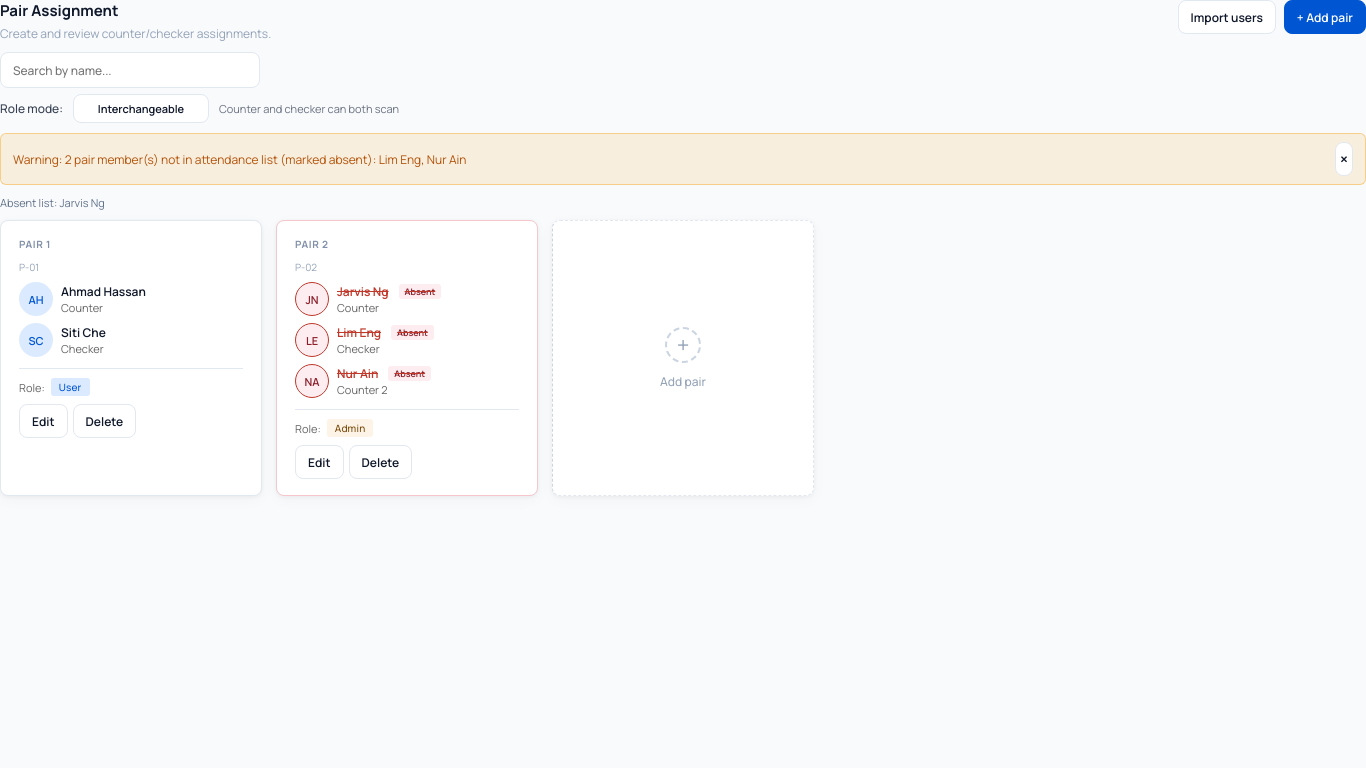
it: PairAssignmentTab › opens edit pair in modal with full dropdown options
Click the text "P-01" at (29,267), box [19,260,39,274]
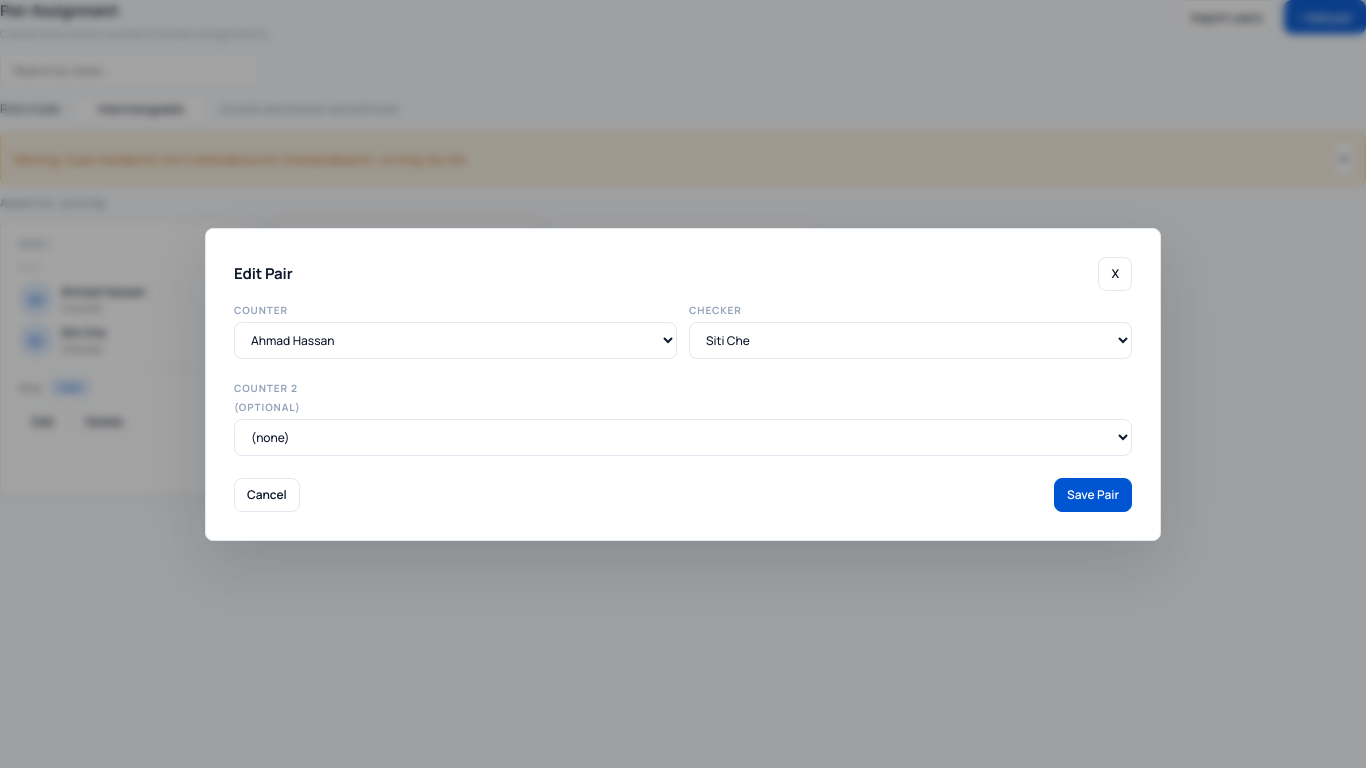
Select "Admin User" in the dropdown labelled "Counter" at (455,340), box [234,322,677,358]
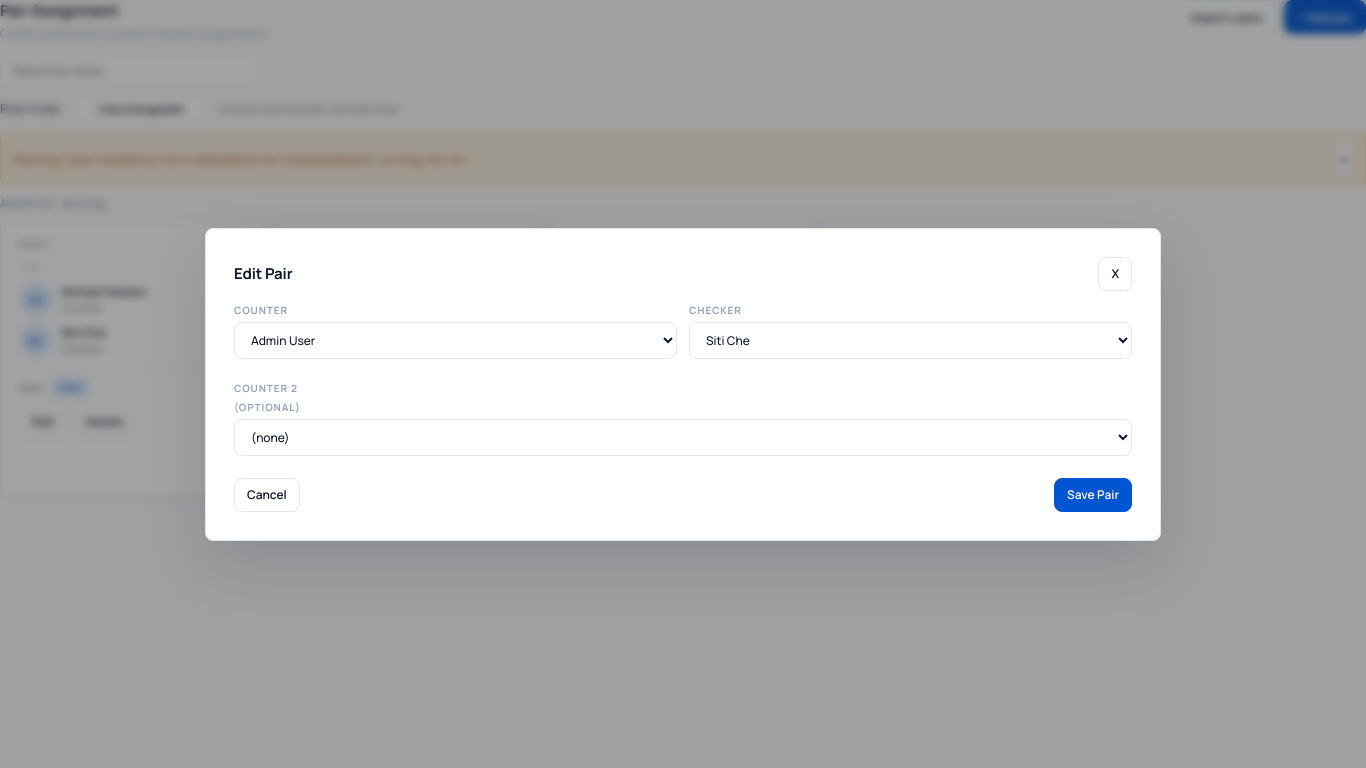
Select "Counter User" in the dropdown labelled "Checker" at (911,340), box [689,322,1132,358]
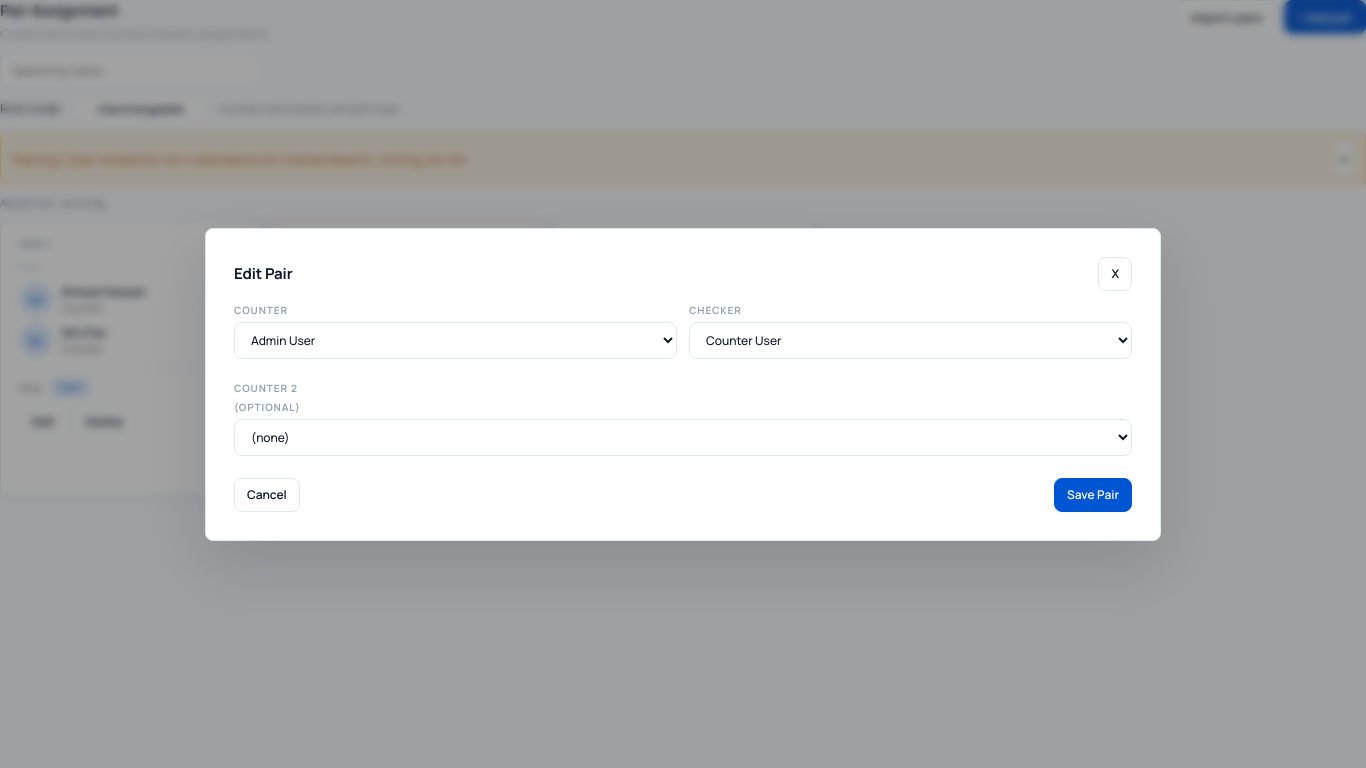
Click the button "Save Pair" at (1093,494), box [1054,478,1132,512]
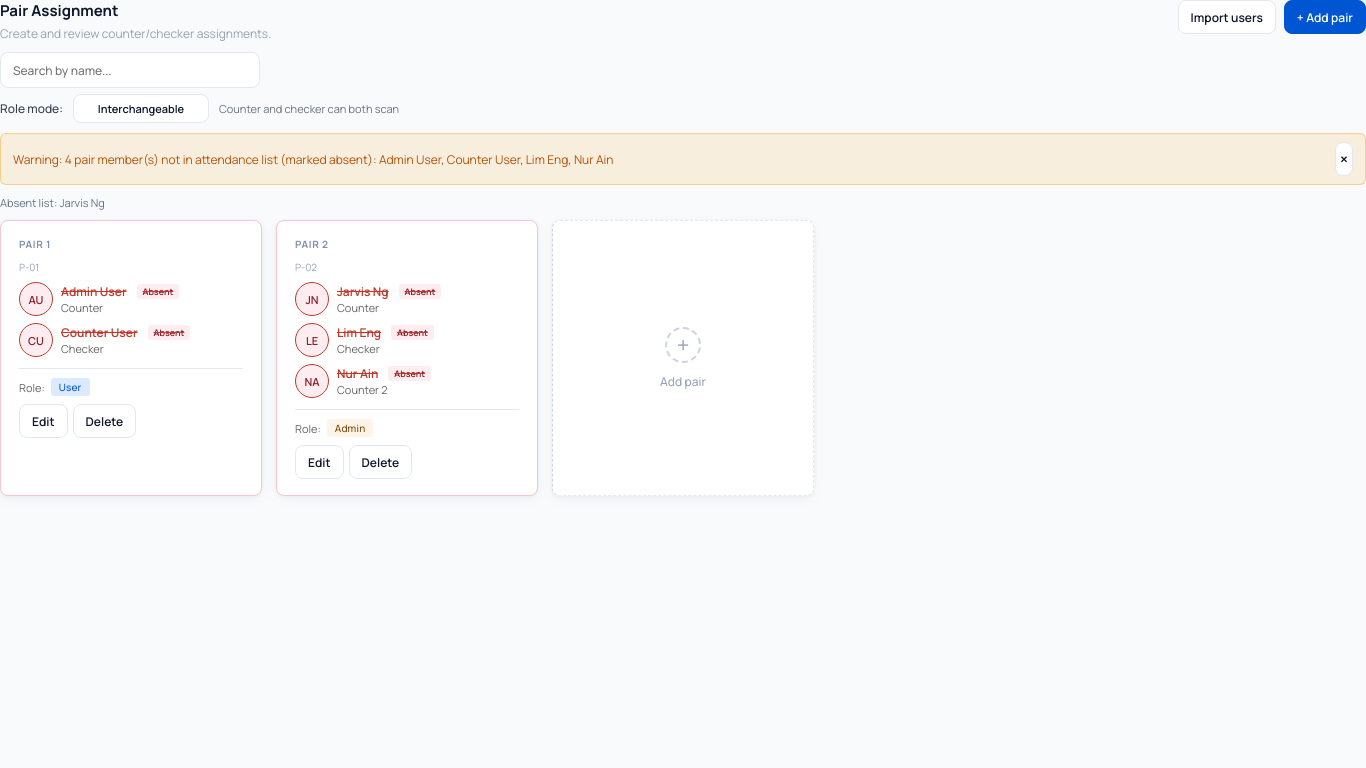
Now the heading "Edit Pair" is gone
Now the text "Admin User" is shown, box [61,283,126,300]
Now the text "Counter User" is shown, box [61,324,138,341]
